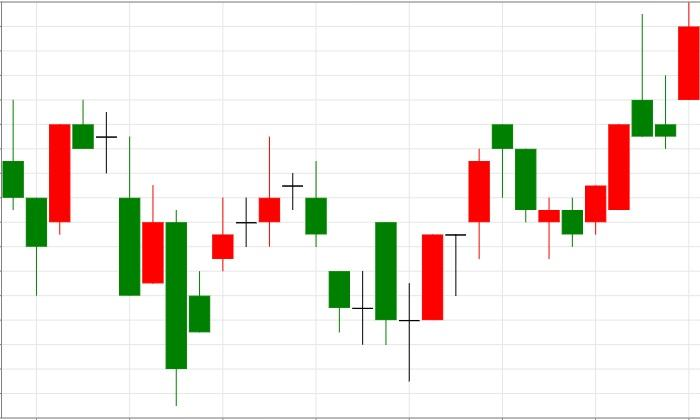hanging_man_fall: (399, 123, 513, 383)
morning_star_rise: (282, 160, 443, 383)
